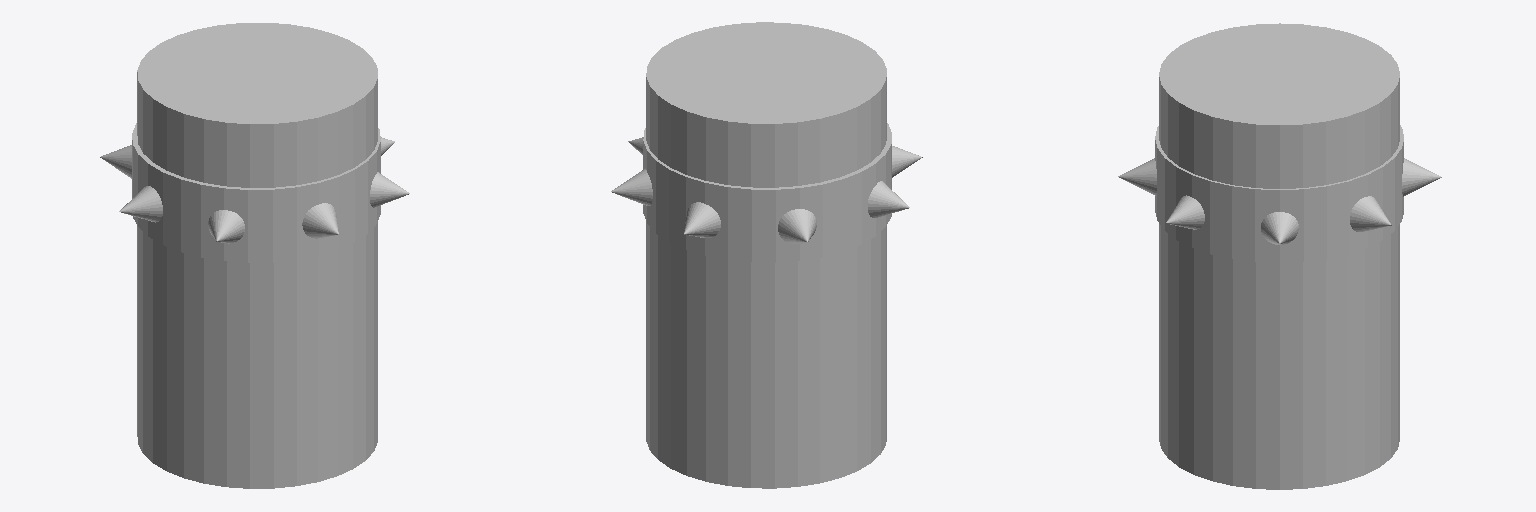
Rendered from alpha_tether_pole.obj.
The picture shows the model from 3 angles: view 1: azimuth 30°, elevation 25°; view 2: azimuth 150°, elevation 25°; view 3: azimuth 270°, elevation 25°; orthographic projection.
Parts seen in each view (by area): view 1: Cylinder.004, Band_Cylinder.005, Cone.008, Cone.007, Cone.004, Cone.001, Cone.005; view 2: Cylinder.004, Band_Cylinder.005, Cone.005, Cone.002, Cone.004, Cone.006; view 3: Cylinder.004, Band_Cylinder.005, Cone.006, Cone.003, Cone.001, Cone.002, Cone.008.
Boxes of the visible parts, x1=… form: Cylinder.004: x1=137, y1=23, x2=377, y2=488; Band_Cylinder.005: x1=132, y1=123, x2=380, y2=262; Cone.008: x1=302, y1=203, x2=338, y2=238; Cone.007: x1=208, y1=210, x2=244, y2=243; Cone.004: x1=119, y1=186, x2=162, y2=222; Cone.001: x1=370, y1=172, x2=409, y2=207; Cone.005: x1=100, y1=145, x2=131, y2=178; Cylinder.004: x1=646, y1=22, x2=886, y2=488; Band_Cylinder.005: x1=643, y1=123, x2=891, y2=262; Cone.005: x1=778, y1=209, x2=816, y2=243; Cone.002: x1=684, y1=202, x2=720, y2=237; Cone.004: x1=868, y1=181, x2=909, y2=217; Cone.006: x1=611, y1=168, x2=652, y2=205; Cylinder.004: x1=1159, y1=23, x2=1399, y2=489; Band_Cylinder.005: x1=1155, y1=125, x2=1403, y2=262; Cone.006: x1=1350, y1=196, x2=1391, y2=231; Cone.003: x1=1261, y1=212, x2=1298, y2=244; Cone.001: x1=1166, y1=195, x2=1204, y2=229; Cone.002: x1=1402, y1=158, x2=1441, y2=196; Cone.008: x1=1118, y1=158, x2=1156, y2=195.
Size of the model in its own units: 0.8034 by 1 by 0.8085.